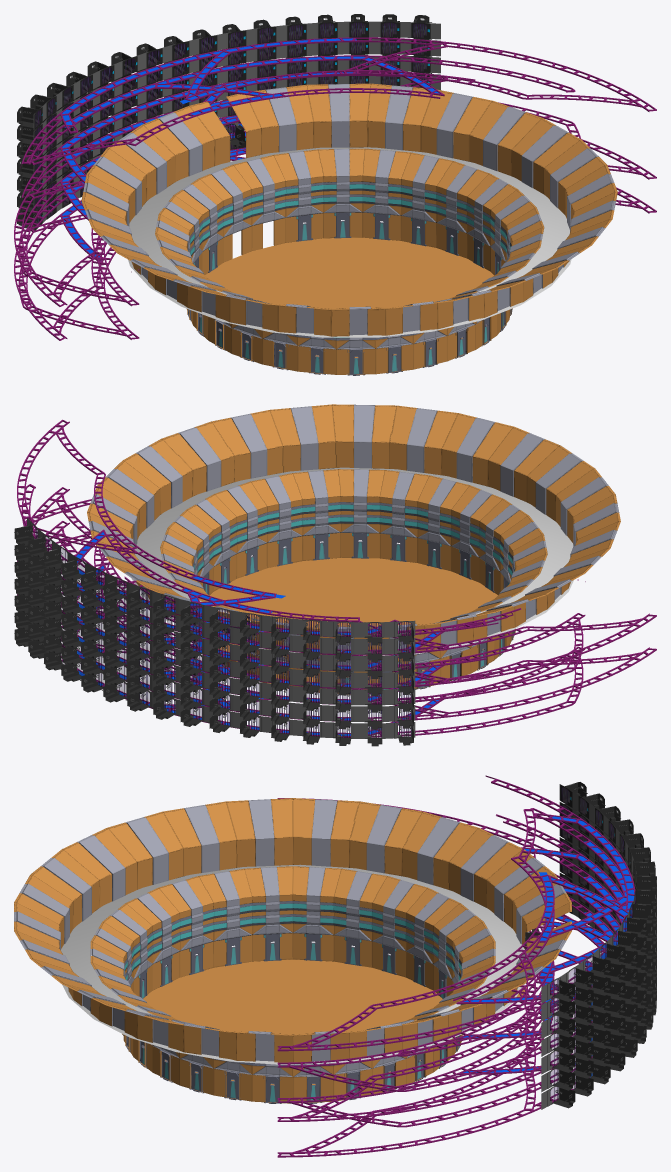
The model's file is Cell Scene Newest.FBX.
The picture shows the model from 3 angles, top to bottom: view 1: azimuth 30°, elevation 25°; view 2: azimuth 150°, elevation 25°; view 3: azimuth 270°, elevation 25°; orthographic projection. The views are drawn at different scales.
Visible parts, largest first — view 1: Upper Walls010, Floor008, Upper Walls009, Arena060, Tube004, Catwalk015, Catwalk014, Walls009, Walls010, Arena059, DoorThing056, WallRibs011 (+52 smaller); view 2: Upper Walls010, Floor008, Upper Walls009, Arena060, Tube004, Catwalk015, Walls010, Catwalk011, Arena059, Catwalk012, Catwalk016, WallRibs011 (+70 smaller); view 3: Upper Walls009, Floor008, Arena059, Upper Walls010, Tube004, Catwalk015, Walls010, Walls009, WallRibs010, Catwalk011, Catwalk014, Catwalk012 (+39 smaller).
Part boxes in pixels (bbox=[...]): Upper Walls010: bbox=[226, 83, 617, 321]; Floor008: bbox=[199, 237, 504, 374]; Upper Walls009: bbox=[81, 101, 472, 336]; Arena060: bbox=[260, 148, 544, 299]; Tube004: bbox=[128, 147, 571, 337]; Catwalk015: bbox=[20, 37, 656, 168]; Catwalk014: bbox=[26, 55, 575, 164]; Walls009: bbox=[187, 223, 425, 374]; Walls010: bbox=[273, 212, 512, 364]; Arena059: bbox=[155, 161, 262, 299]; DoorThing056: bbox=[157, 112, 491, 343]; WallRibs011: bbox=[274, 181, 511, 252]; Upper Walls010: bbox=[87, 404, 476, 631]; Floor008: bbox=[210, 557, 504, 694]; Upper Walls009: bbox=[247, 422, 620, 655]; Arena060: bbox=[160, 469, 442, 618]; Tube004: bbox=[131, 467, 573, 655]; Catwalk015: bbox=[17, 419, 498, 636]; Walls010: bbox=[199, 533, 428, 683]; Catwalk011: bbox=[25, 499, 656, 687]; Arena059: bbox=[440, 482, 547, 619]; Catwalk012: bbox=[17, 487, 585, 703]; Catwalk016: bbox=[45, 533, 656, 721]; WallRibs011: bbox=[192, 502, 428, 572]; Upper Walls009: bbox=[14, 798, 571, 948]; Floor008: bbox=[127, 959, 458, 1102]; Arena059: bbox=[90, 866, 495, 963]; Upper Walls010: bbox=[14, 921, 571, 1062]; Tube004: bbox=[61, 864, 524, 1064]; Catwalk015: bbox=[277, 775, 635, 1051]; Walls010: bbox=[122, 1034, 462, 1103]; Walls009: bbox=[131, 933, 454, 996]; WallRibs010: bbox=[124, 901, 461, 980]; Catwalk011: bbox=[277, 798, 623, 1091]; Catwalk014: bbox=[396, 808, 626, 1056]; Catwalk012: bbox=[277, 874, 620, 1121].
Bounding box in the file's own units: 3846 × 895 × 3425.
